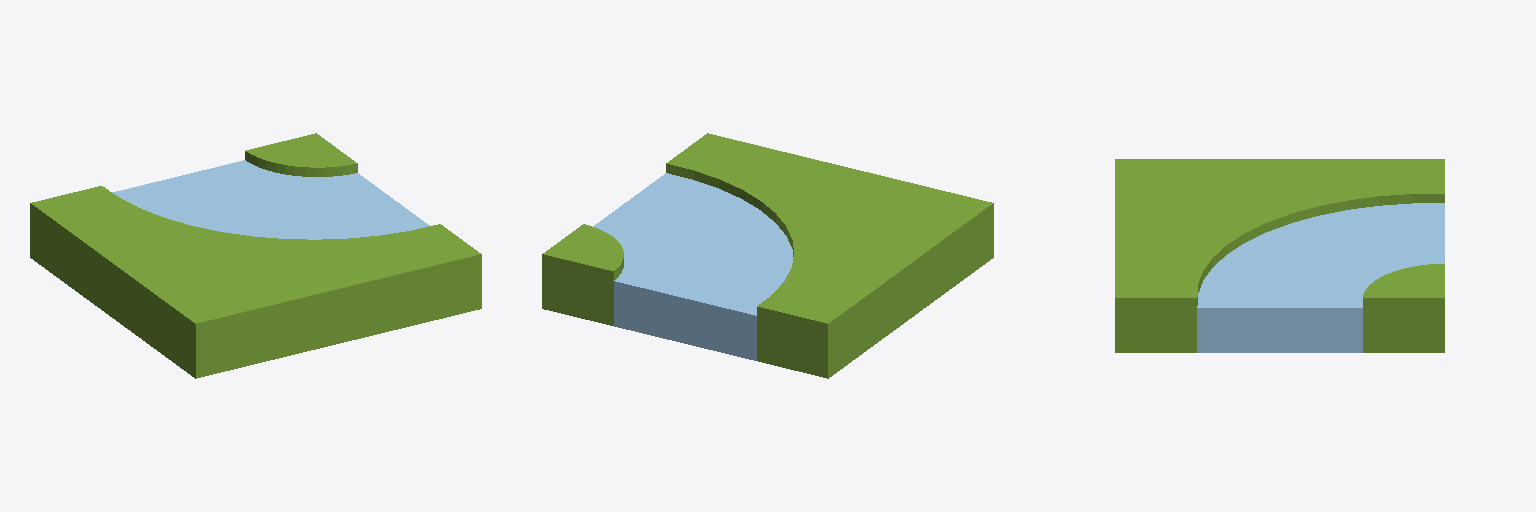
3 views of the same model, side by side, from view 1: azimuth 30°, elevation 25°; view 2: azimuth 150°, elevation 25°; view 3: azimuth 270°, elevation 25° (orthographic).
Parts seen in each view (by area): view 1: roadTile_185.001; view 2: roadTile_185.001; view 3: roadTile_185.001.
Boxes of the visible parts, box(x1,y1,x2,y2) form: roadTile_185.001: box(30, 133, 481, 378); roadTile_185.001: box(542, 133, 993, 378); roadTile_185.001: box(1115, 159, 1444, 352).
Bounding box in the file's own units: 3 × 0.55 × 3.